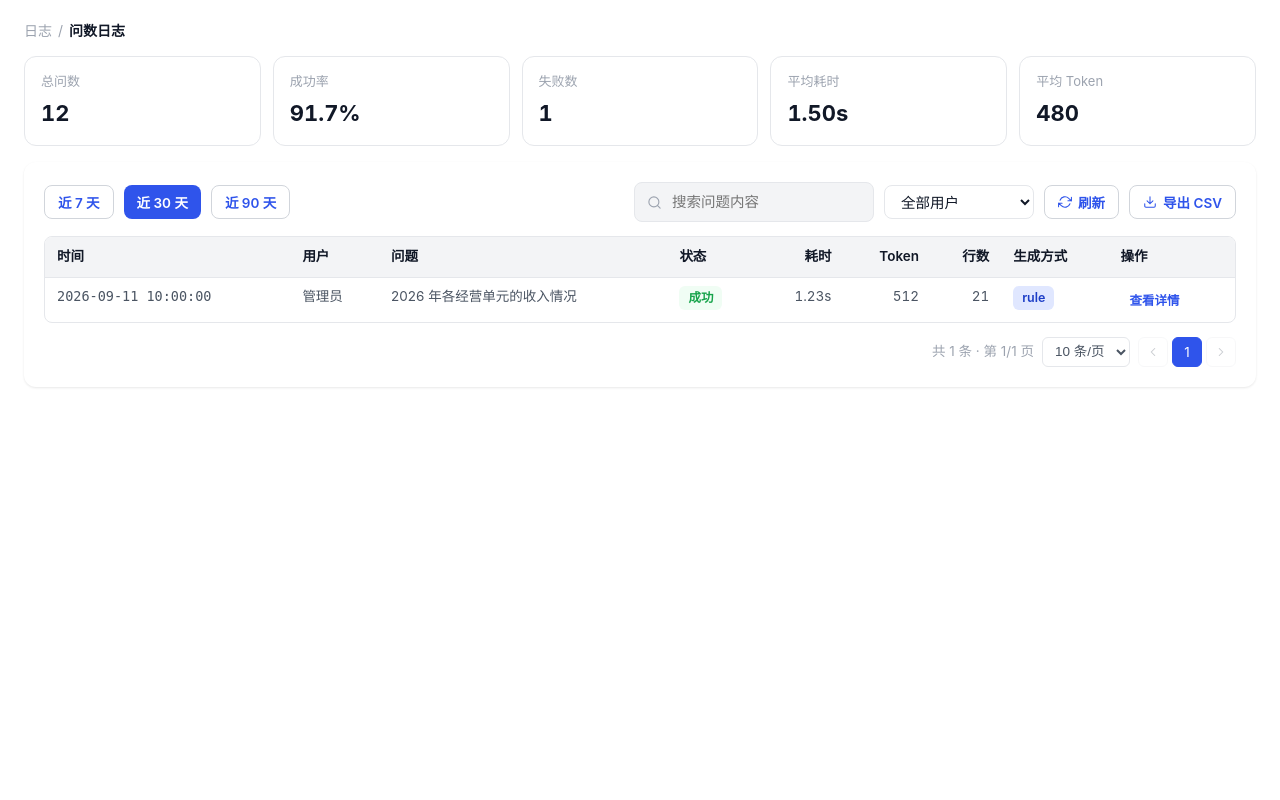
LogsPage — 详情弹窗 › 没有命中表 / SQL 时显示占位文案
Check: the text "2026 年各经营单元的收入情况" is shown, box [379,278,667,322]
Click the button "查看详情" at (1154, 300), box [1120,286,1188,314]
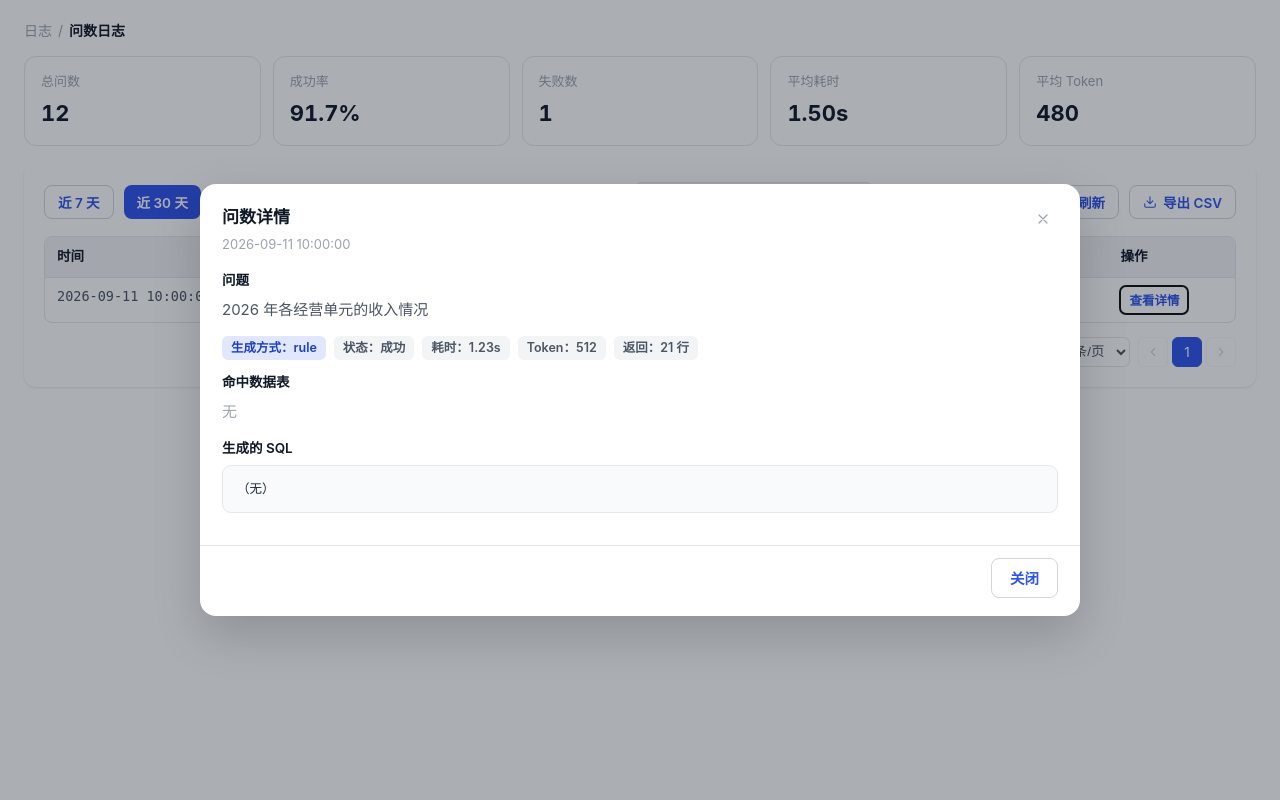
Check: the text "无" is shown, box [222,400,237,424]
Check: the text "（无）" is shown, box [222,465,1058,513]
